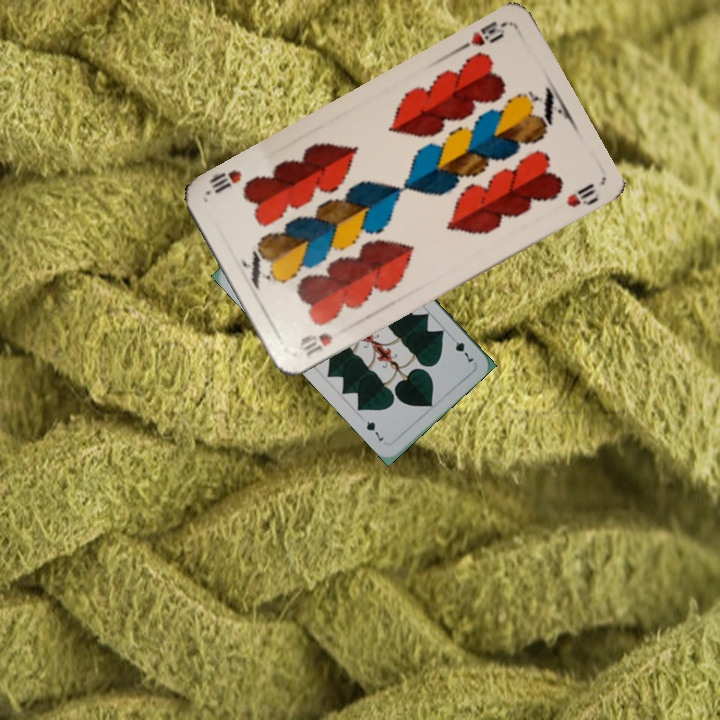G7: (446, 331, 477, 365)
H10: (466, 17, 510, 49), (294, 328, 335, 361)
